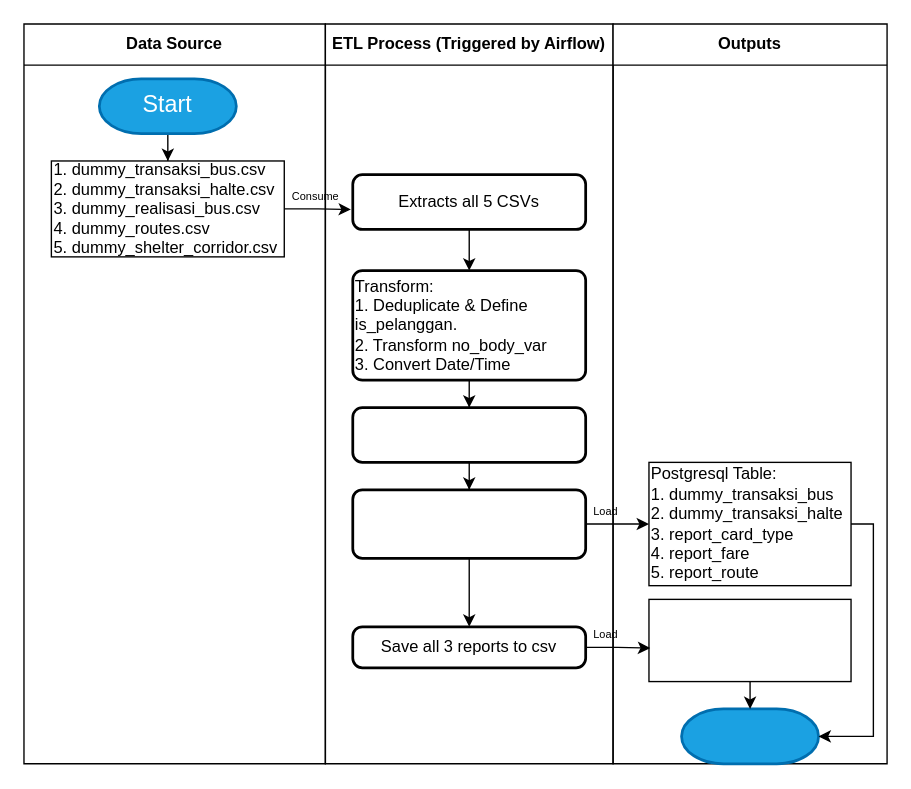
The diagram is 911 pixels wide and 789 high, and some of its shapes have lost their labels. Here are the shapes that lost their labels. From the top down, the centre of each, then its label:
At point (468, 434): "Generate 3 Reports: Card Type, Fare, dan Routes".
At point (468, 523): "Load data transaksi bus and halte and also all 3 reports to postgresql.".
At point (749, 640): "Report CSVs: 1. report_card_type 2. report_fare 3. report_route".
At point (749, 735): "Finished".
